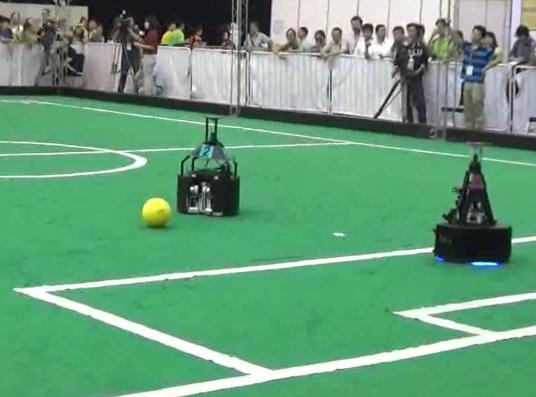robot: (430, 137, 515, 267), (174, 111, 244, 221)
